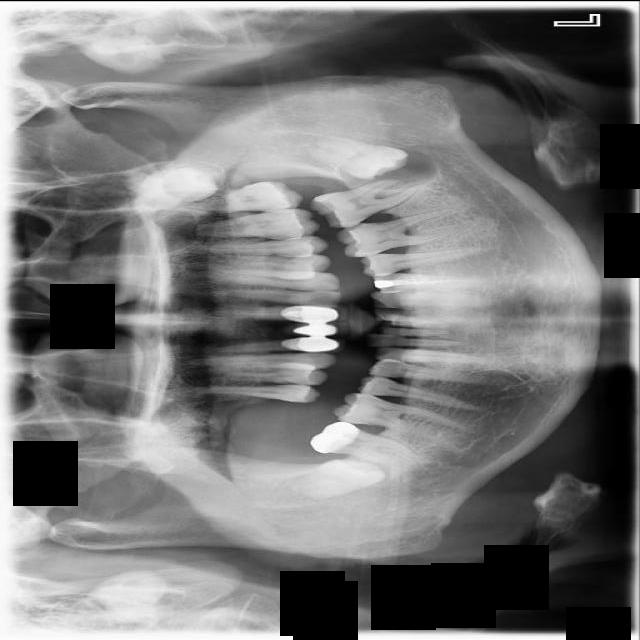52: (306, 414, 365, 460), (284, 305, 336, 322), (286, 337, 339, 351), (376, 273, 413, 293), (296, 323, 338, 335)
73: (400, 272, 489, 290)
BioHorizons Implant: (161, 178, 302, 217)
BioLife Implant: (129, 159, 220, 215)
Biomet 3i Implant: (309, 134, 410, 183)
Blue Sky Bio Implant: (310, 171, 425, 231)
Implant: (309, 415, 421, 470)
Keystone Dental Implant: (301, 447, 388, 506)
